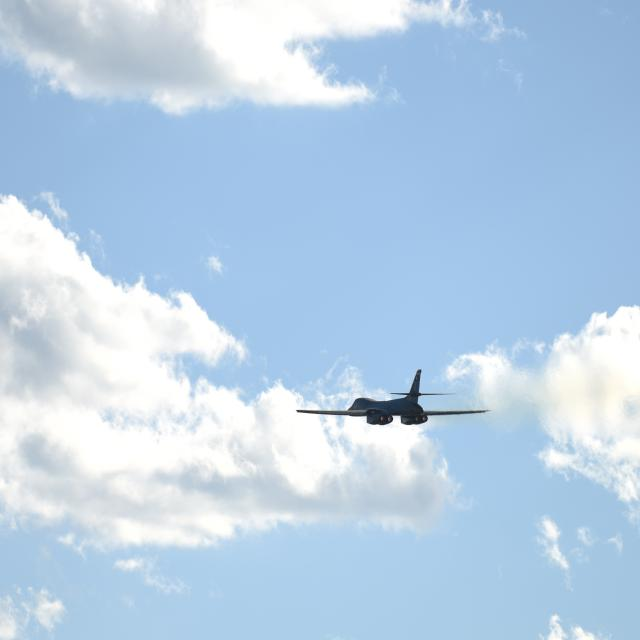MIL_Plane: (296, 363, 492, 419)
